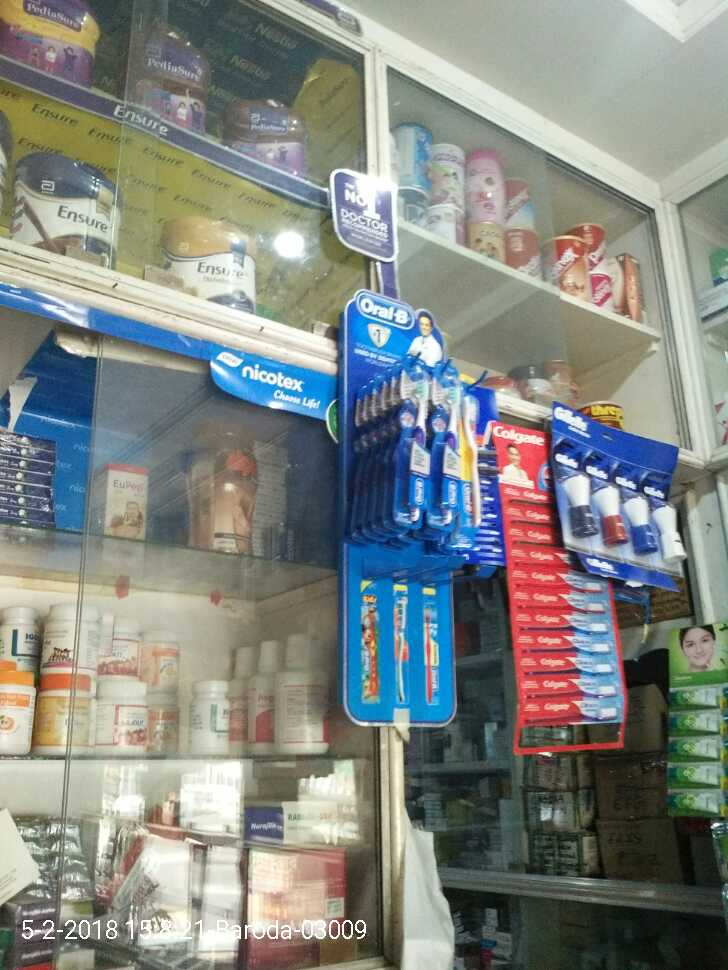gillette: (554, 449, 695, 583)
